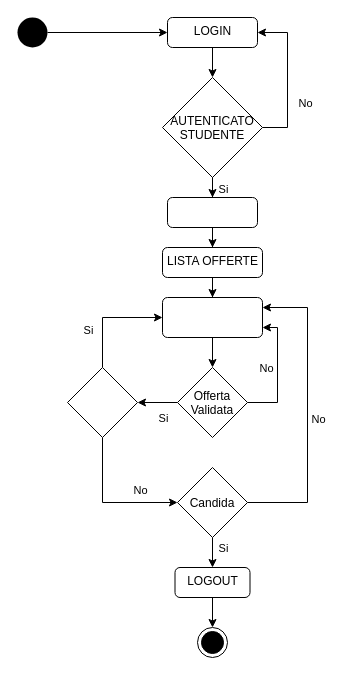
This 342x675 diagram has some shape labels left out. Here are the shapes that lost their labels. From the top down, the centre of each, then its label:
pixel 212 212: HOMEPAGE
pixel 212 317: SELEZIONA OFFERTA
pixel 102 402: Già Candidato
